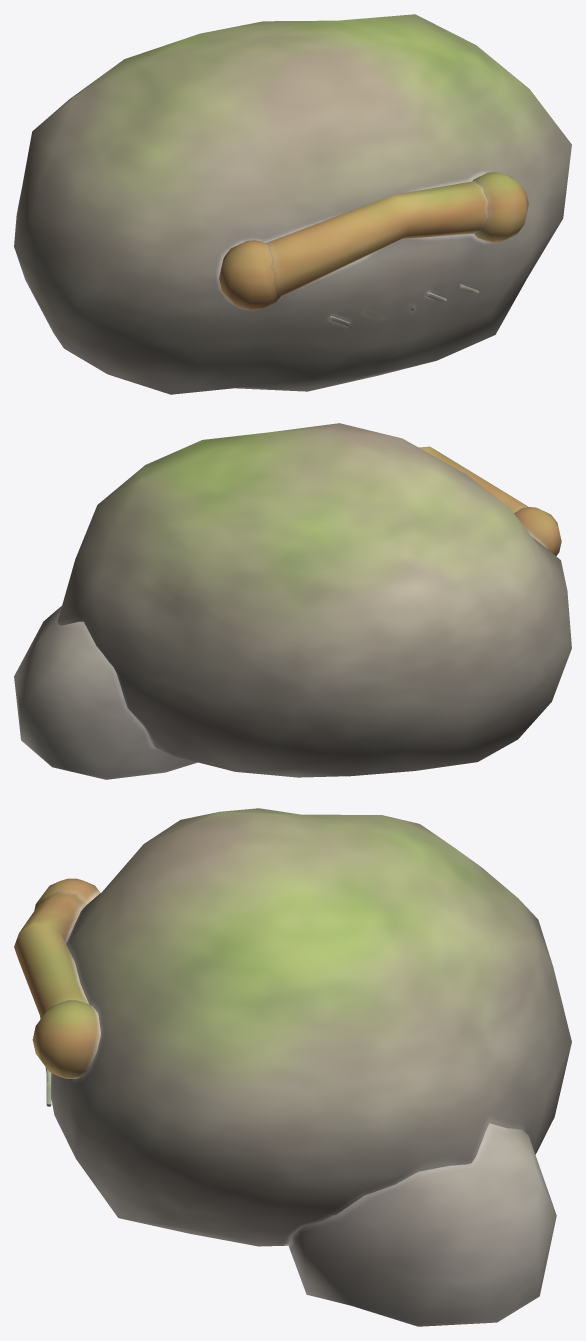
File: node_big_rock.glb
3 renders of one model, top to bottom at view 1: azimuth 30°, elevation 25°; view 2: azimuth 150°, elevation 25°; view 3: azimuth 270°, elevation 25°, orthographic. The views are drawn at different scales.
Visible parts, largest first — view 1: SM_NodeBigRock; view 2: SM_NodeBigRock; view 3: SM_NodeBigRock.
Part boxes in pixels (x1,y1,x2,y2): SM_NodeBigRock: (14,14,571,394); SM_NodeBigRock: (14,423,571,779); SM_NodeBigRock: (14,808,571,1326).
Size of the model in its own units: 2.86 by 1.69 by 2.39.
1 material, 1 textured.
